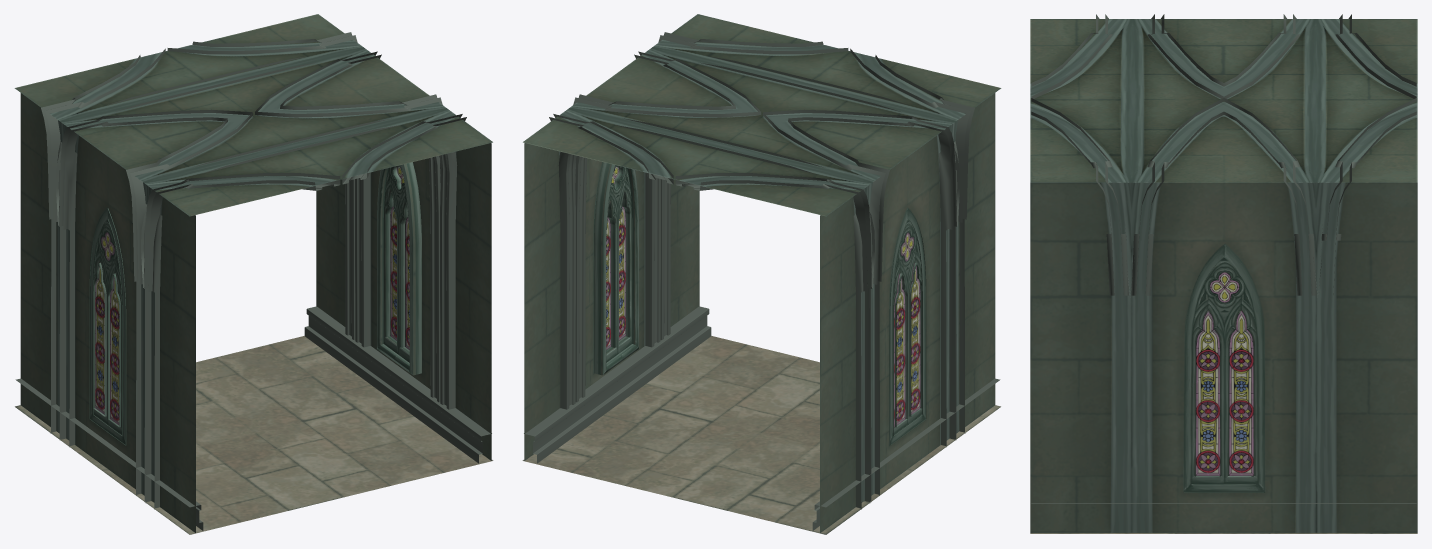
Rendered from field_normal.fbx.
3 views of the same model, side by side, from view 1: azimuth 30°, elevation 25°; view 2: azimuth 150°, elevation 25°; view 3: azimuth 270°, elevation 25° (orthographic). The views are drawn at different scales.
Parts seen in each view (by area): view 1: pPlane2, pCube2, Wall, pPlane3, pasted__Wall; view 2: pPlane2, pCube2, Wall, pPlane3, pasted__Wall; view 3: pasted__Wall, pPlane2, pCube2.
Part boxes in pixels (<box>): pPlane2: <box>14,14,492,216</box>; pCube2: <box>15,32,491,530</box>; Wall: <box>20,93,195,532</box>; pPlane3: <box>15,336,493,534</box>; pasted__Wall: <box>316,143,491,460</box>; pPlane2: <box>523,14,1001,216</box>; pCube2: <box>524,32,1000,530</box>; Wall: <box>820,93,995,532</box>; pPlane3: <box>522,336,1000,534</box>; pasted__Wall: <box>524,143,699,460</box>; pasted__Wall: <box>1030,182,1417,532</box>; pPlane2: <box>1030,19,1417,182</box>; pCube2: <box>1031,14,1416,503</box>.
Bounding box in the file's own units: 1.06 × 1.06 × 1.04.
Materials: 5 (4 with a texture image).
